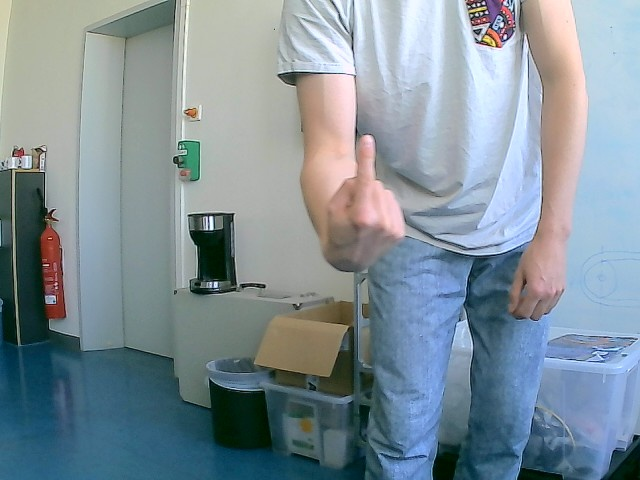no_gesture: (509, 235, 567, 323)
up: (322, 133, 407, 273)
